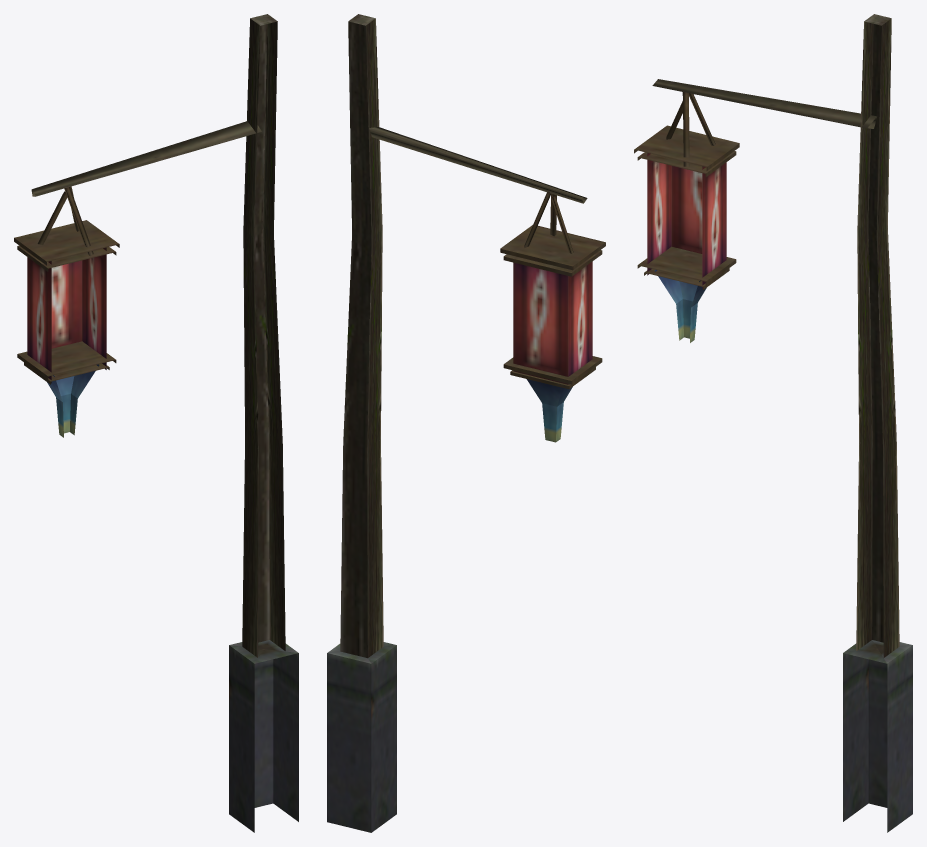
Rendered from zc_erhai_dengzhu01.FBX.
3 renders of one model, left to right at view 1: azimuth 30°, elevation 25°; view 2: azimuth 150°, elevation 25°; view 3: azimuth 330°, elevation 25°, orthographic.
Parts seen in each view (by area): view 1: zc_erhai_dengzhu01; view 2: zc_erhai_dengzhu01; view 3: zc_erhai_dengzhu01.
Boxes of the visible parts, box(x1,y1,x2,y2) form: zc_erhai_dengzhu01: box(14, 14, 298, 832); zc_erhai_dengzhu01: box(327, 14, 605, 832); zc_erhai_dengzhu01: box(634, 14, 912, 832).
Size of the model in its own units: 86.67 by 262 by 19.64.
